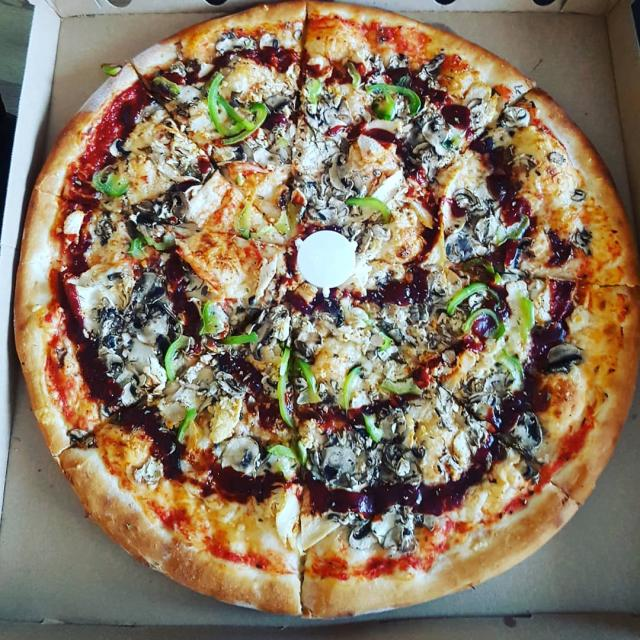mushrooms: (304, 427, 384, 495), (124, 264, 180, 350), (461, 363, 524, 424), (374, 502, 436, 554), (290, 178, 348, 233), (156, 177, 198, 237), (212, 432, 264, 480), (323, 509, 382, 551), (382, 432, 427, 487), (298, 90, 356, 129), (196, 336, 266, 366), (321, 153, 365, 197), (173, 364, 218, 406), (88, 299, 125, 349), (442, 226, 491, 262), (290, 314, 325, 364), (120, 192, 158, 236), (424, 264, 463, 306), (414, 143, 454, 183), (341, 220, 392, 251), (175, 258, 210, 302), (398, 123, 445, 155), (92, 342, 129, 382), (118, 374, 167, 404), (461, 408, 492, 455), (431, 382, 460, 432), (514, 409, 545, 455), (307, 127, 350, 160), (232, 301, 272, 336), (467, 207, 504, 243), (242, 129, 277, 167), (418, 51, 450, 92), (212, 366, 248, 402), (413, 94, 448, 131), (261, 81, 298, 116), (369, 401, 408, 433), (166, 150, 205, 182), (545, 342, 586, 372), (378, 315, 416, 347), (290, 138, 322, 175), (214, 30, 259, 55), (268, 124, 296, 164), (268, 297, 292, 342), (364, 49, 410, 72), (133, 456, 163, 490), (508, 237, 533, 276), (403, 295, 432, 328), (94, 210, 118, 249), (67, 422, 98, 452), (450, 188, 485, 214), (500, 102, 530, 132), (346, 202, 383, 226), (176, 84, 202, 117), (465, 96, 488, 130), (104, 136, 134, 162), (209, 145, 248, 165), (569, 224, 594, 254), (368, 270, 389, 304), (508, 150, 538, 172), (324, 298, 346, 328), (256, 373, 279, 400), (284, 62, 302, 96), (435, 310, 455, 340), (392, 95, 412, 125), (226, 88, 248, 110), (522, 463, 542, 486), (315, 380, 333, 404), (258, 32, 279, 52), (167, 59, 188, 79), (365, 71, 385, 90), (160, 120, 174, 146), (548, 149, 568, 167), (424, 330, 440, 352), (568, 187, 586, 206), (106, 267, 124, 285), (198, 61, 213, 81), (358, 106, 372, 122), (294, 378, 307, 393), (291, 27, 302, 41), (278, 193, 286, 210)
pizza: (12, 0, 640, 622)
